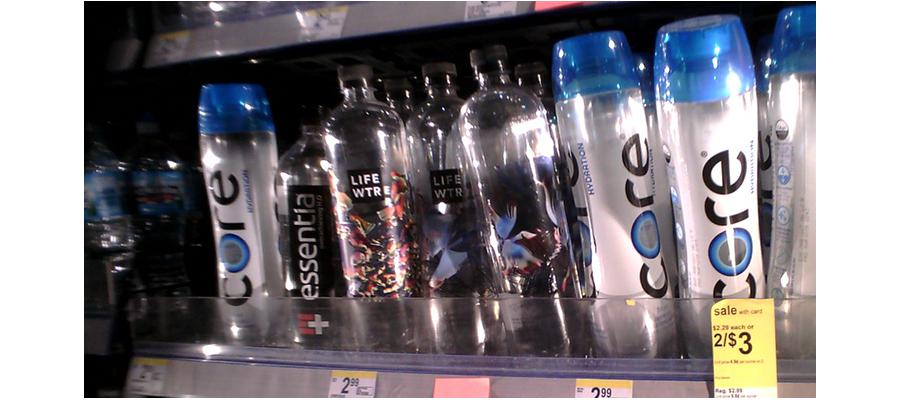bottle: (556, 18, 669, 361), (658, 6, 764, 355), (459, 58, 570, 361), (326, 70, 411, 356), (197, 79, 280, 346), (411, 39, 476, 354), (770, 4, 817, 349), (127, 136, 199, 345), (280, 107, 332, 344)
